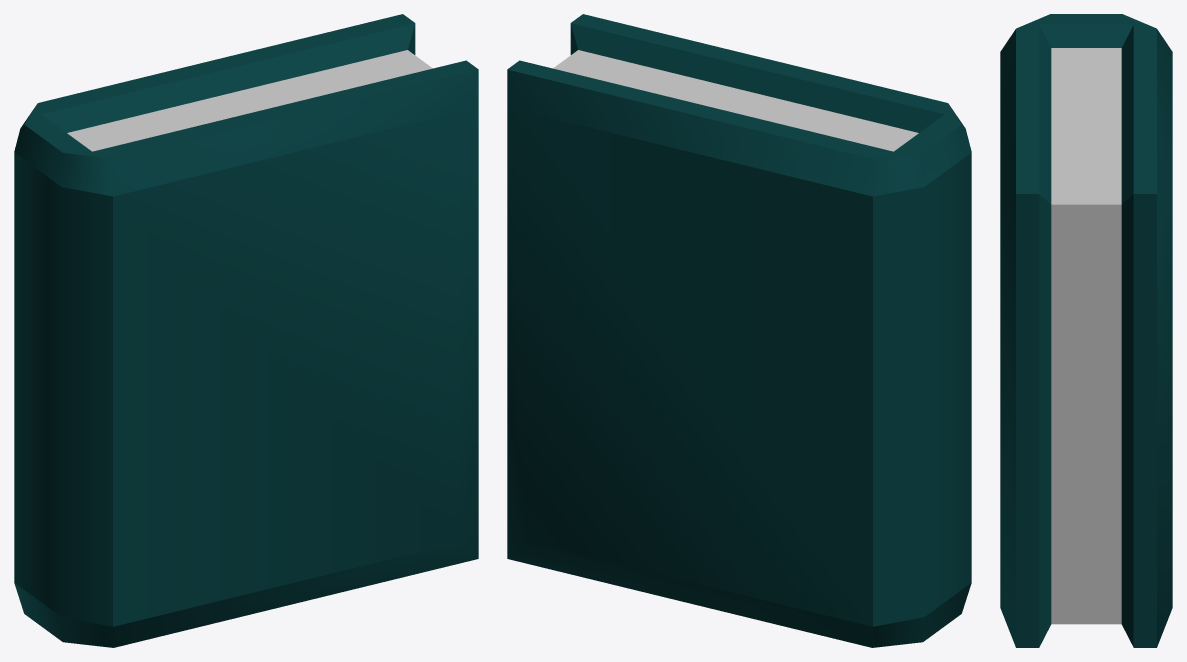
Rendered from bookE.obj.
3 renders of one model, left to right at view 1: azimuth 30°, elevation 25°; view 2: azimuth 150°, elevation 25°; view 3: azimuth 270°, elevation 25°, orthographic. The views are drawn at different scales.
Visible parts, largest first — view 1: bookE_Cube.4071; view 2: bookE_Cube.4071; view 3: bookE_Cube.4071.
Boxes of the visible parts, x1,y1,x2,y2 form: bookE_Cube.4071: (14, 14, 478, 647); bookE_Cube.4071: (507, 14, 971, 647); bookE_Cube.4071: (1000, 14, 1172, 647).
Size of the model in its own units: 0.3586 by 0.4161 by 0.1431.
